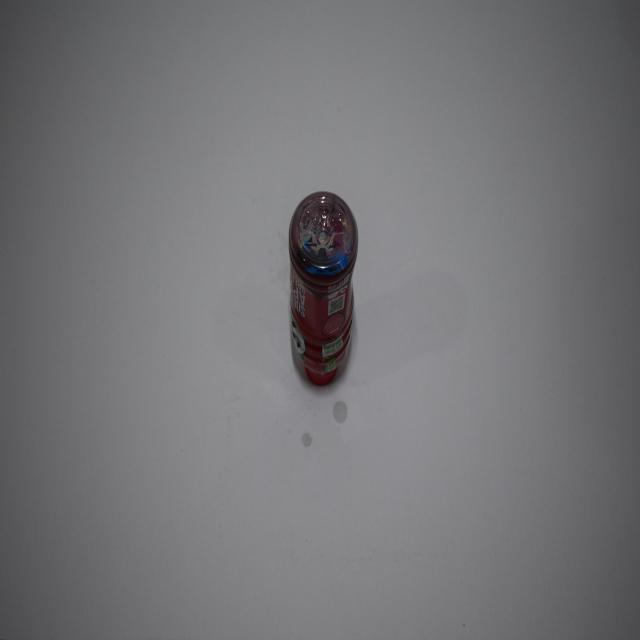bottle: (277, 168, 373, 404)
